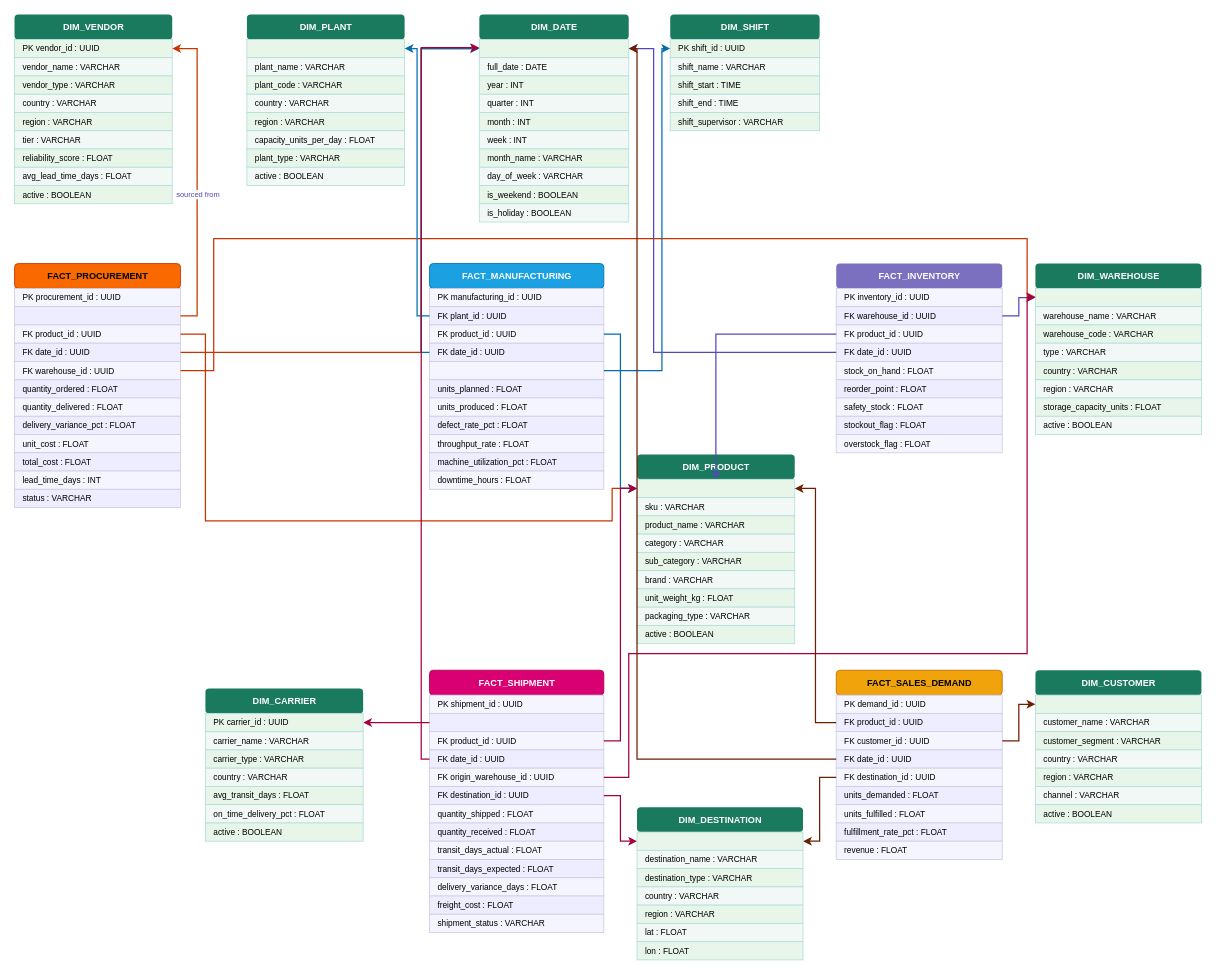
Some shapes in this 1216 by 974 pixel diagram are drawn without their labels. The centre of each missing label's shape, as x and y in pixels:
"FK carrier_id : UUID" goes at [516,722].
"FK shift_id : UUID" goes at [516,370].
"FK vendor_id : UUID" goes at [97,315].
"PK customer_id : UUID" goes at [1118,703].
"PK date_id : UUID" goes at [553,48].
"PK destination_id : UUID" goes at [719,840].
"PK plant_id : UUID" goes at [325,48].
"PK product_id : UUID" goes at [715,488].
"PK warehouse_id : UUID" goes at [1118,297].
